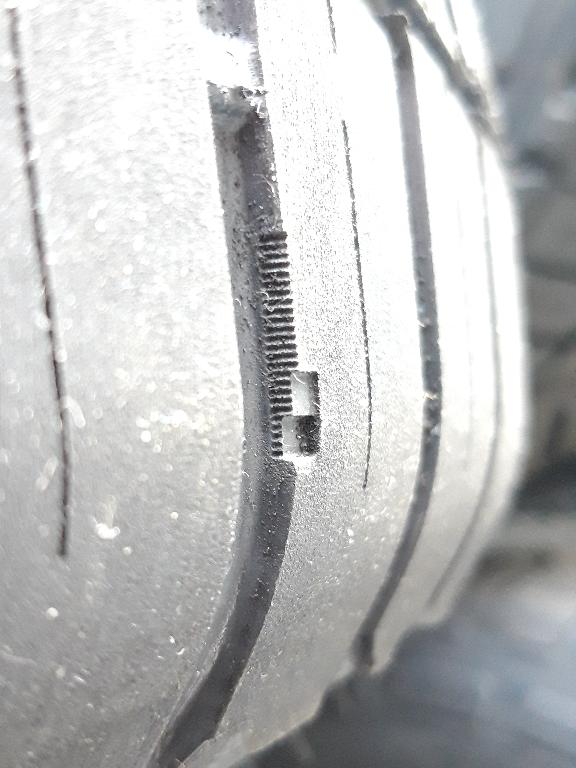temoin:25: (253, 359, 334, 476)
